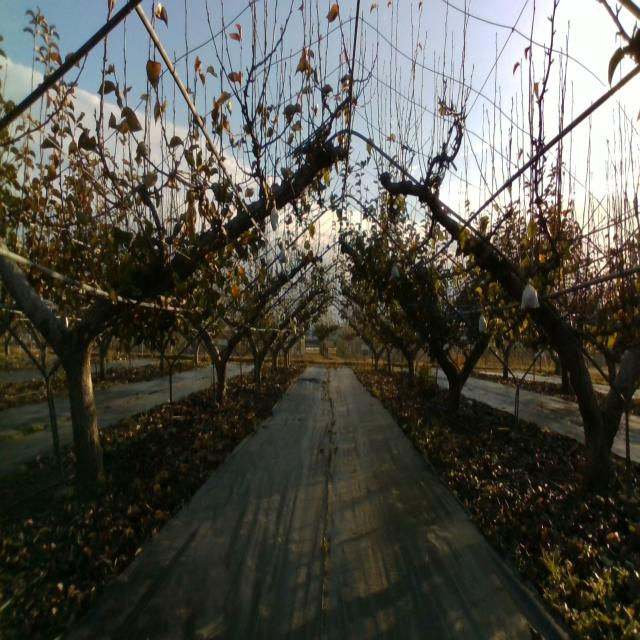pearbags: (521, 278, 540, 311), (270, 200, 280, 231), (278, 245, 290, 264)
